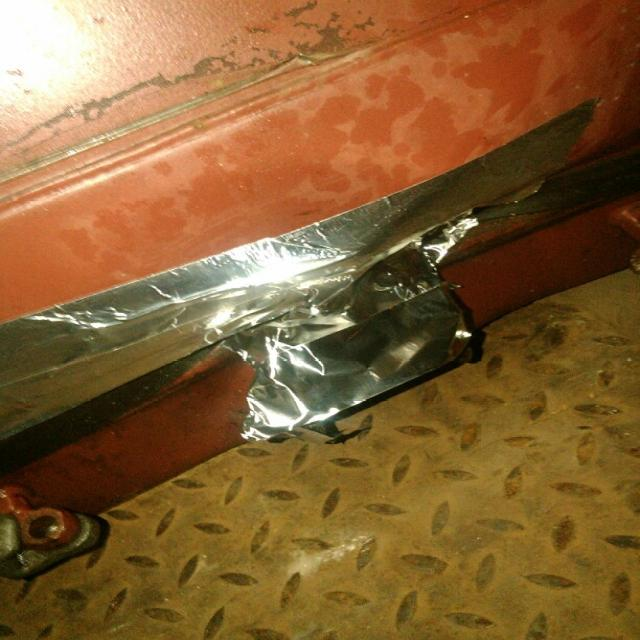dent: (17, 164, 640, 453)
